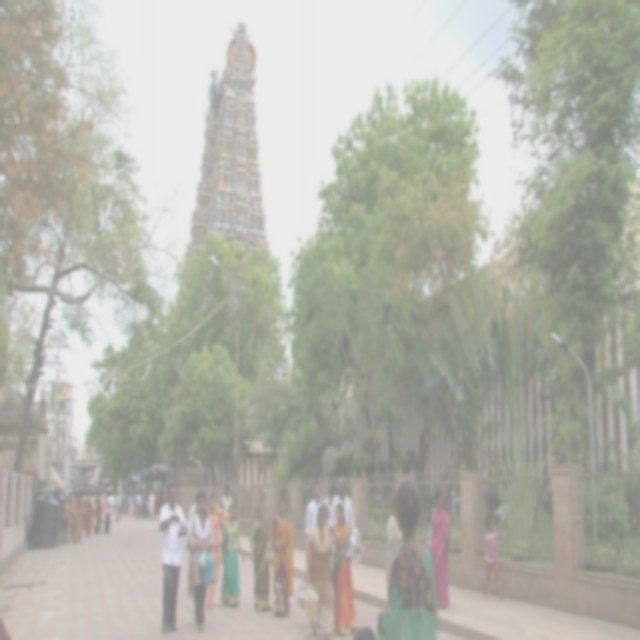pessoa: (59, 462, 172, 544), (386, 478, 439, 614), (156, 478, 190, 634), (328, 498, 364, 638), (305, 504, 337, 639), (186, 489, 216, 632), (268, 492, 296, 619), (482, 506, 515, 604), (426, 486, 452, 610), (248, 498, 273, 614), (220, 502, 246, 606), (384, 482, 404, 612), (206, 492, 226, 612), (328, 474, 356, 542), (185, 493, 198, 599), (304, 478, 323, 542), (321, 484, 339, 531), (218, 482, 234, 530), (350, 618, 377, 638), (0, 608, 14, 639)
